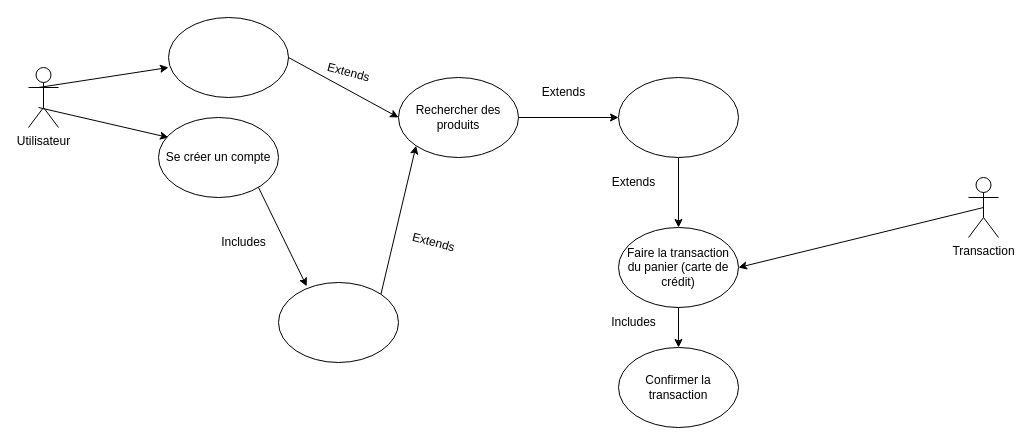
Some shapes in this 1032 by 445 pixel diagram are drawn without their labels. The centre of each missing label's shape, as x and y in pixels:
"Ajouter au panier le produit désiré" goes at point (678, 117).
"Se connecter à son nouveau compte crée" goes at point (338, 322).
"Se connecter à un compte" goes at point (228, 57).
